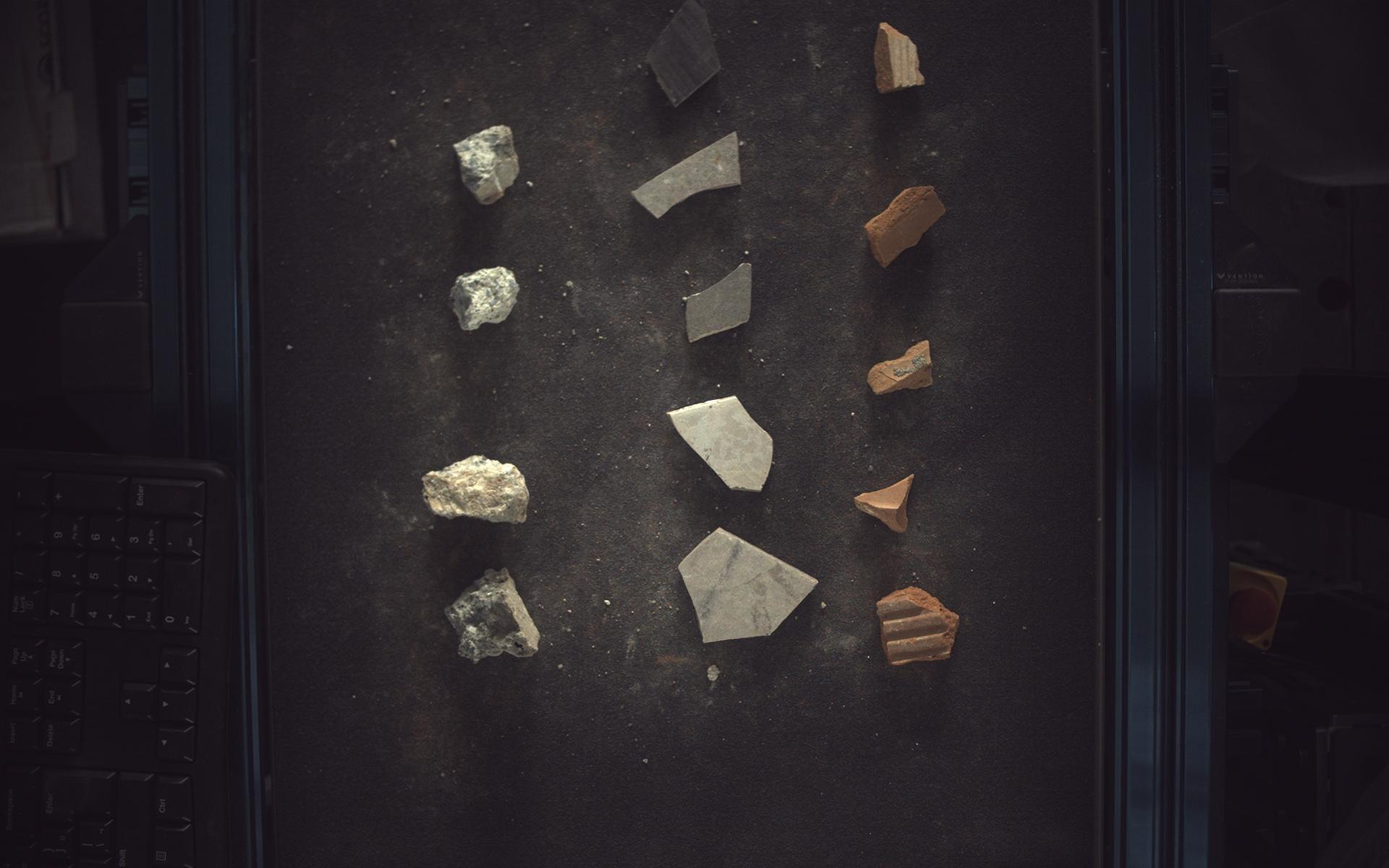brick: (878, 587, 961, 667), (867, 185, 948, 266), (876, 21, 926, 92), (856, 475, 917, 533), (870, 340, 934, 394)
concrete: (445, 569, 539, 663), (422, 455, 530, 523), (453, 124, 519, 204), (450, 266, 519, 331)
tile: (679, 529, 818, 644), (668, 397, 774, 492), (633, 131, 742, 218), (647, 1, 722, 106), (687, 263, 753, 342)
